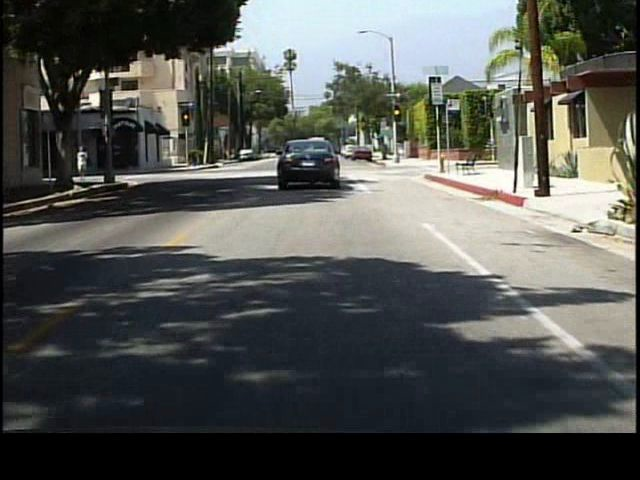person: (75, 143, 91, 186)
